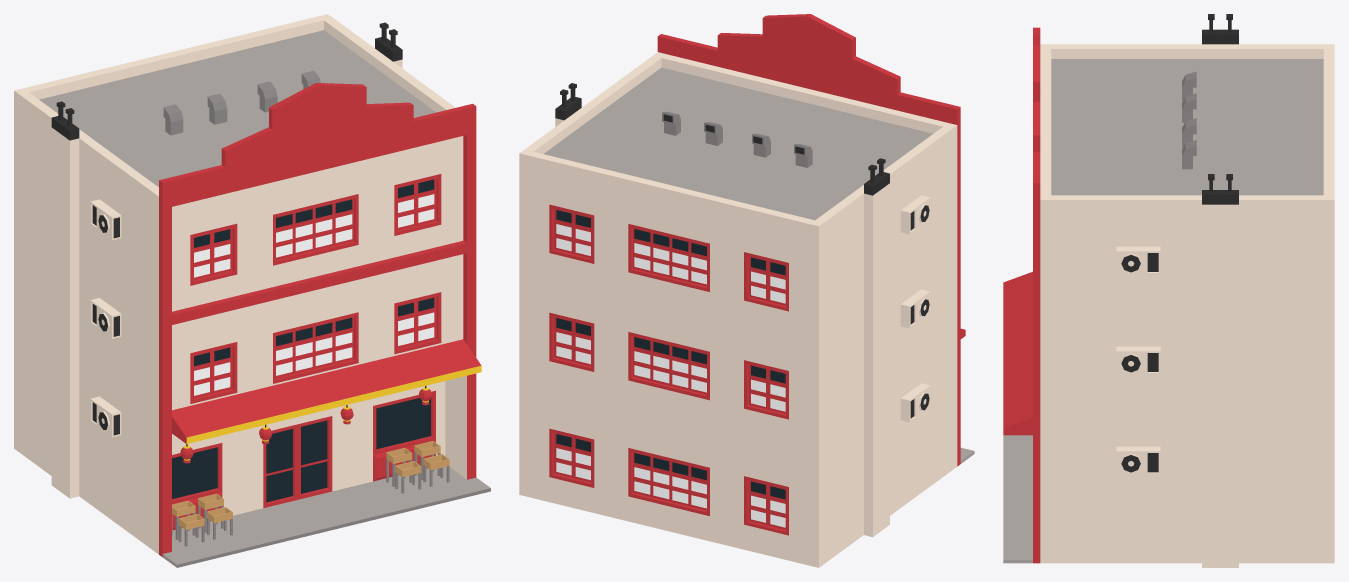
File: building-market-china.glb
The picture shows the model from 3 angles, left to right: view 1: azimuth 30°, elevation 25°; view 2: azimuth 150°, elevation 25°; view 3: azimuth 270°, elevation 25°; orthographic projection. The views are drawn at different scales.
Parts seen in each view (by area): view 1: building-market-china; view 2: building-market-china; view 3: building-market-china.
Part boxes in pixels (box(x1,y1,x2,y2)): building-market-china: box(14, 14, 490, 567); building-market-china: box(519, 14, 974, 567); building-market-china: box(1003, 14, 1334, 567).
Bounding box in the file's own units: 10.7 × 13.2 × 9.
Materials: 1 (1 with a texture image).
